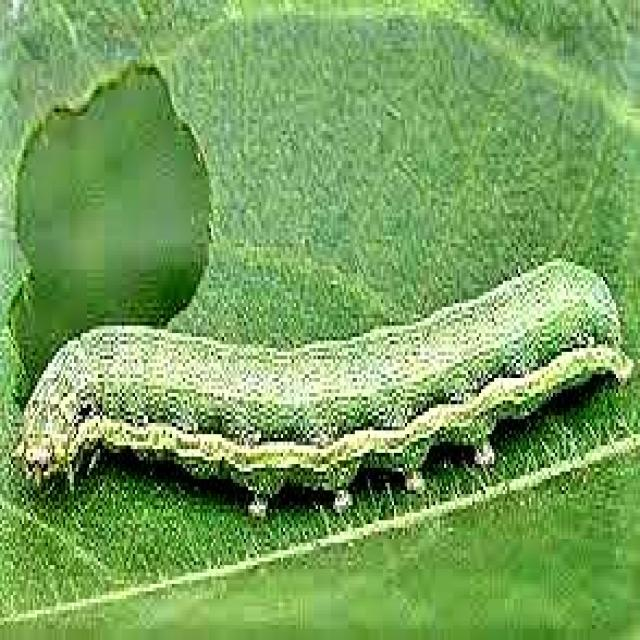Armyworm: (1, 236, 640, 587)
Armyworm_damage: (1, 42, 227, 386)
